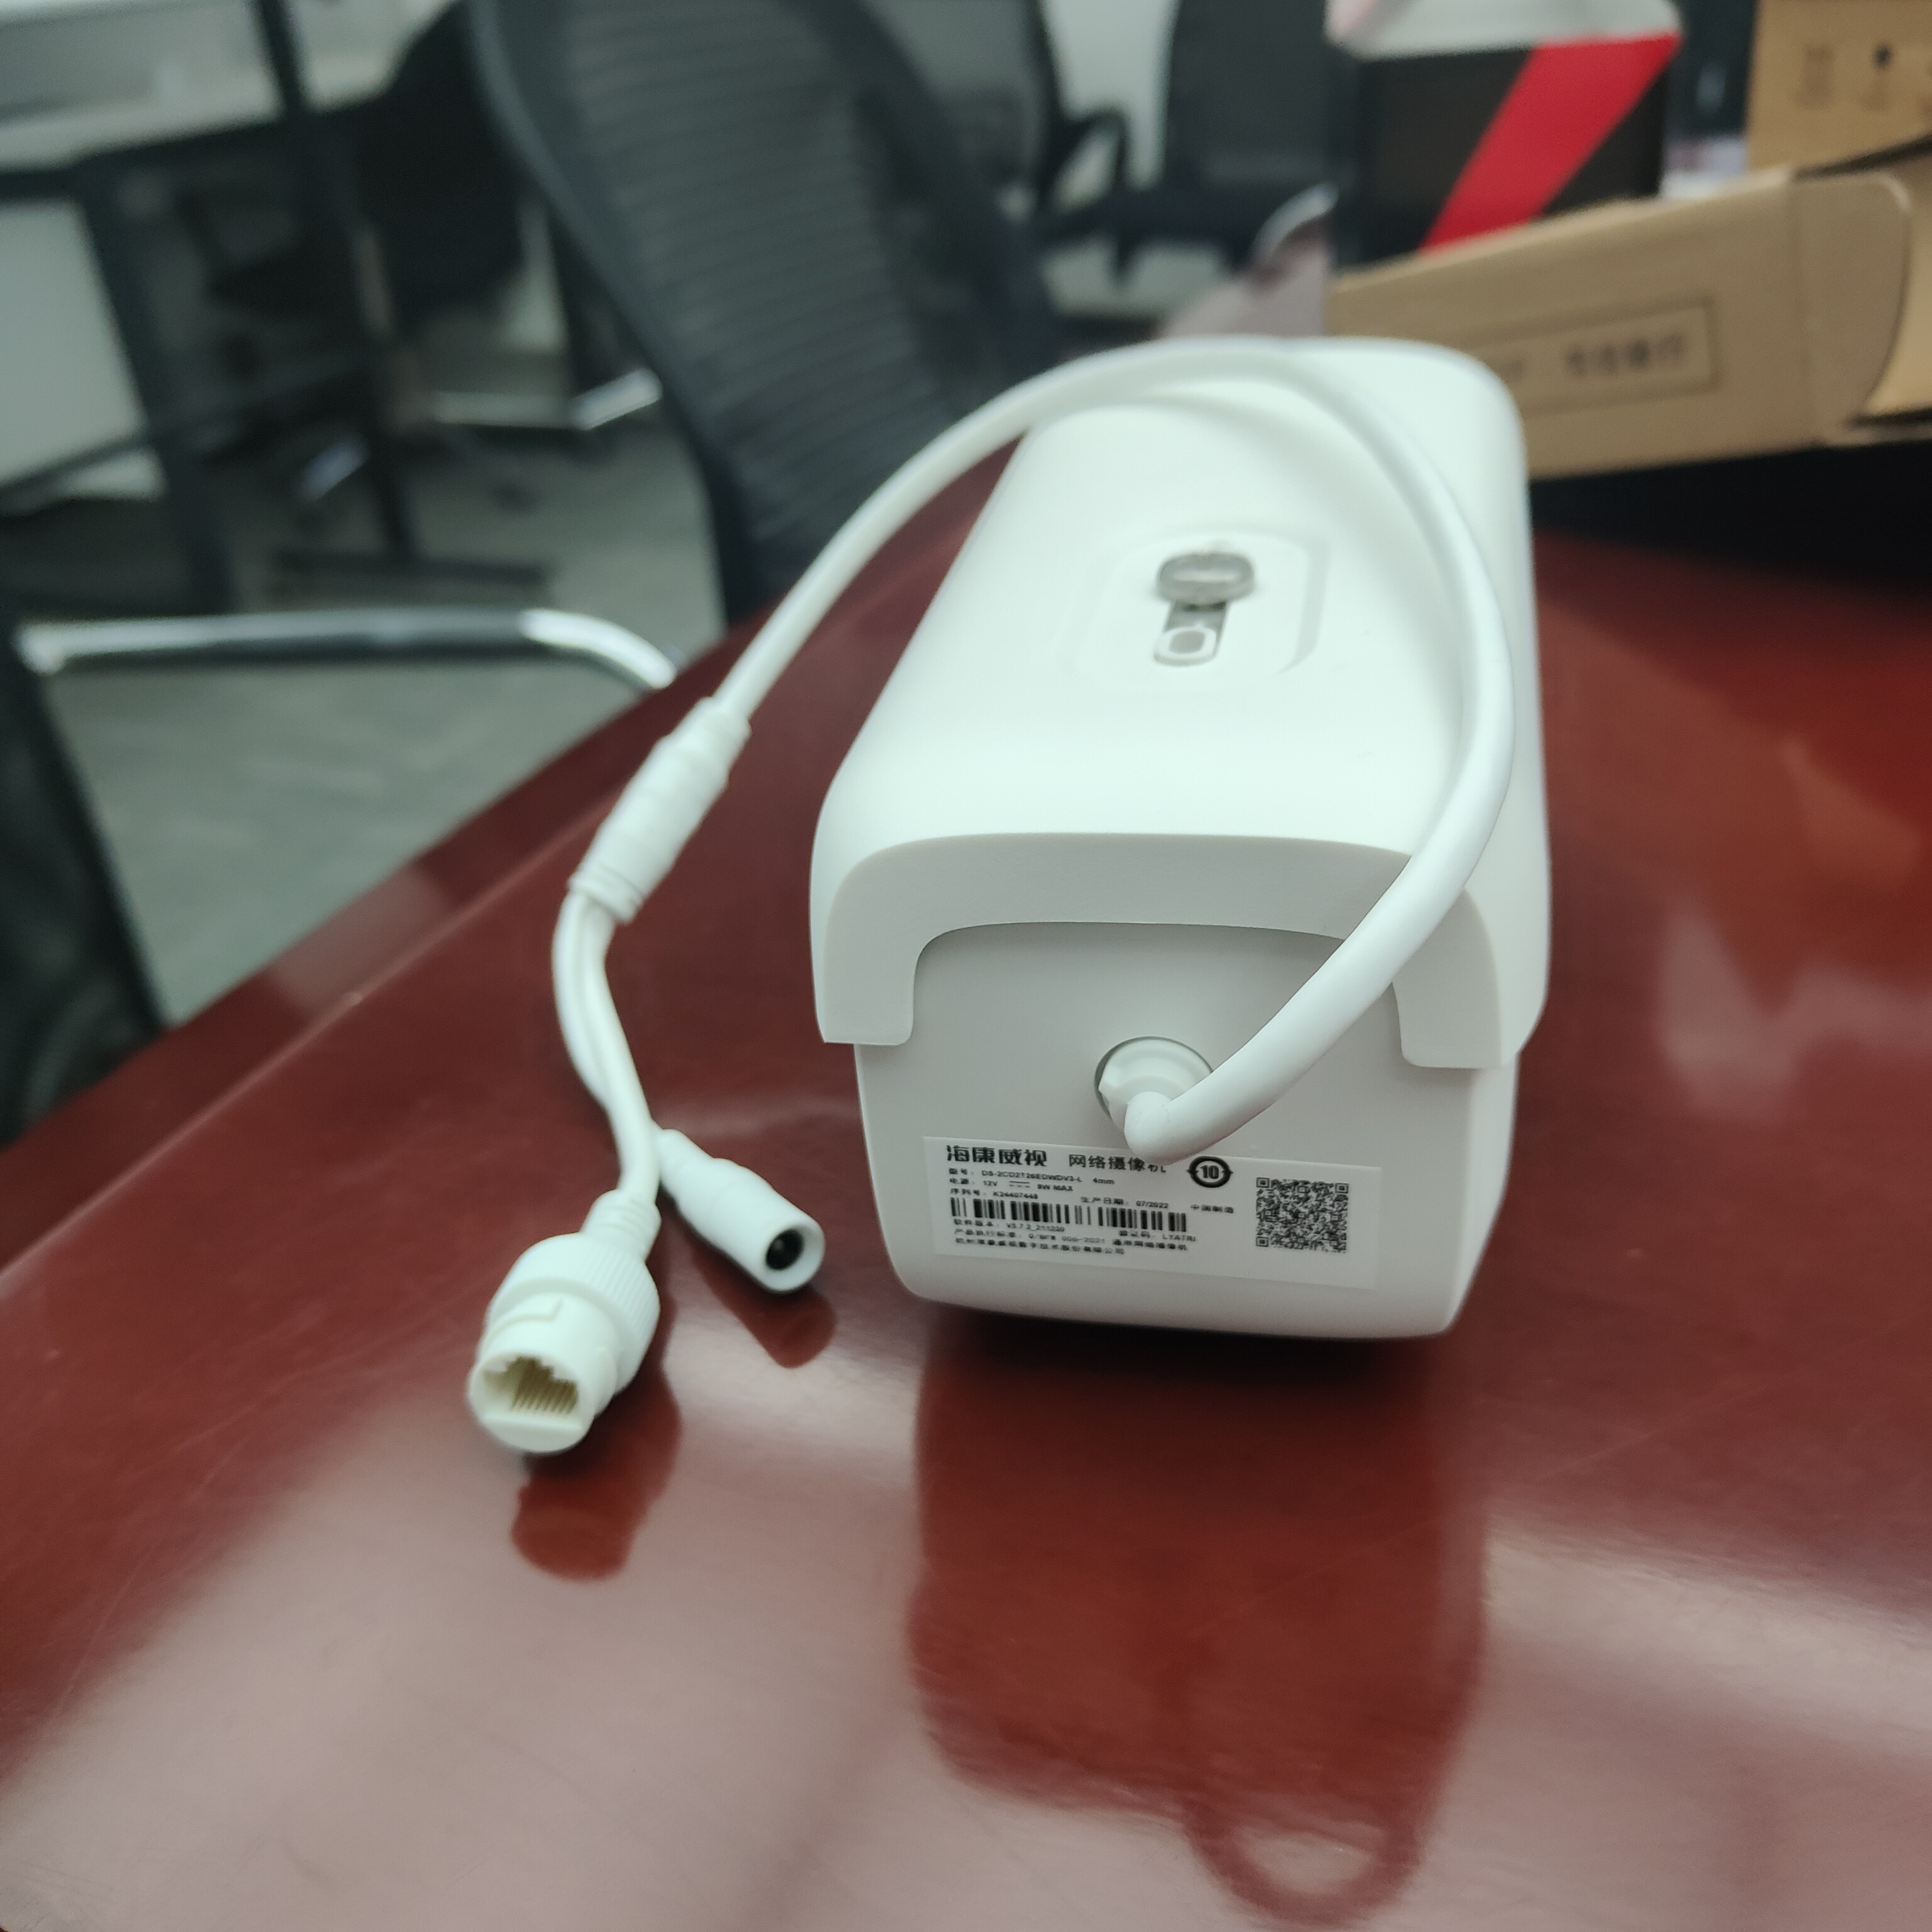hkws: (778, 320, 1628, 1368)
